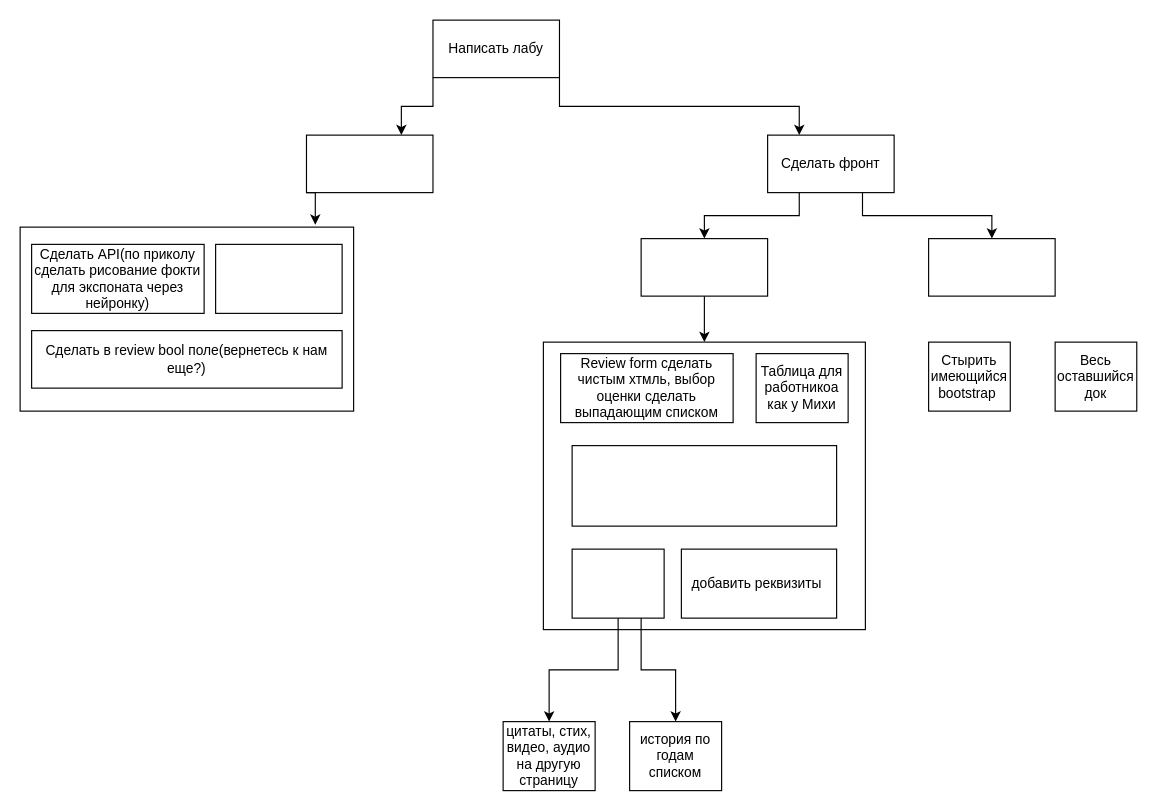
Image size: 1157x811. Some labels were removed from this diagram. The centre of each missing label's shape, as x and y in pixels:
"CSS" goes at point 991,266.
"Html" goes at point 704,266.
"Доделать бизнес логику" goes at point 369,163.
"изменить страницу about" goes at point 617,583.
"Оформить одни промокды при помощи ol" goes at point 704,485.
"Сделать отображение двух последних статей вместо одной" goes at point 278,278.
